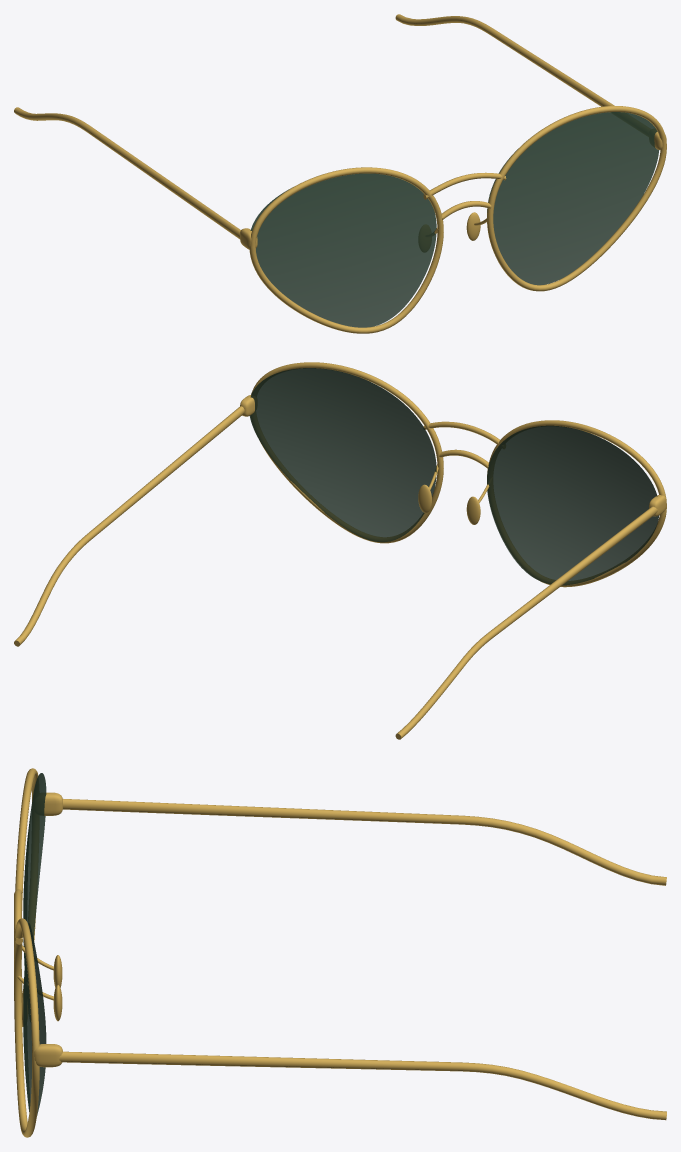
Rendered from TO-AVI-01.glb.
3 renders of one model, top to bottom at view 1: azimuth 30°, elevation 25°; view 2: azimuth 150°, elevation 25°; view 3: azimuth 270°, elevation 25°, orthographic. The views are drawn at different scales.
Parts seen in each view (by area): view 1: lenses, frame; view 2: lenses, frame; view 3: frame, lenses.
Part boxes in pixels (<box>): lenses: <box>250,112,659,327</box>; frame: <box>14,14,666,333</box>; lenses: <box>249,368,658,585</box>; frame: <box>14,362,666,739</box>; frame: <box>14,768,666,1137</box>; lenses: <box>23,773,46,1115</box>.
Bounding box in the file's own units: 0.1364 × 0.0527 × 0.1463.
